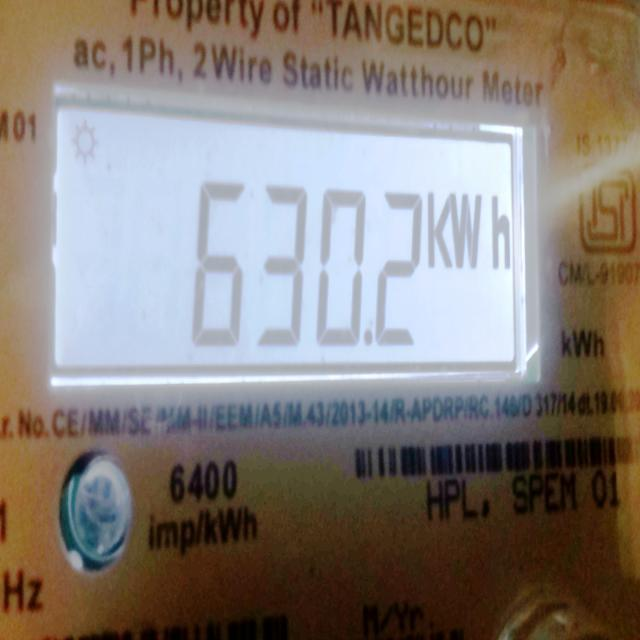LCD: (24, 54, 585, 409)
